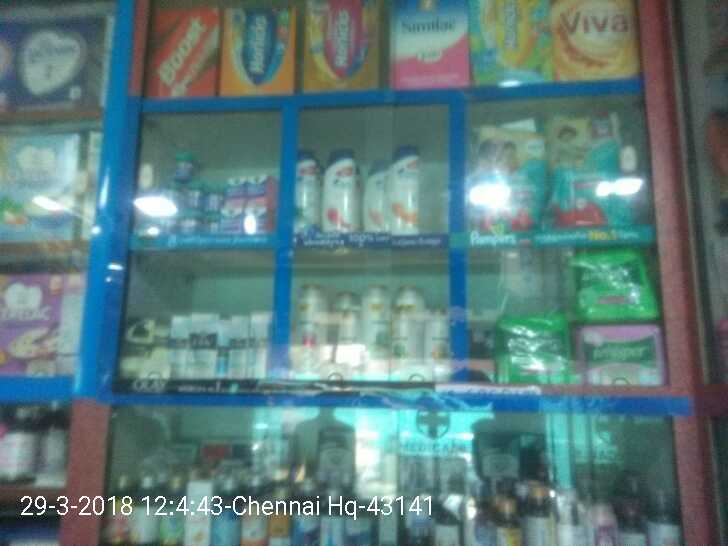vicks: (147, 152, 272, 235)
